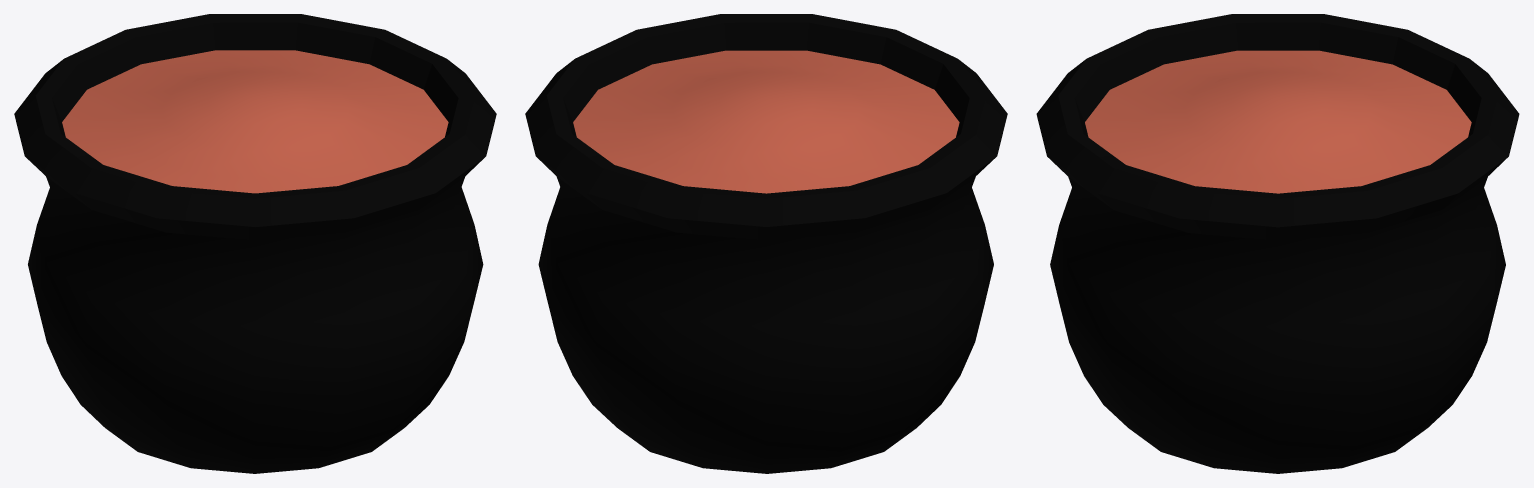
File: oil.fbx
3 renders of one model, left to right at view 1: azimuth 30°, elevation 25°; view 2: azimuth 150°, elevation 25°; view 3: azimuth 270°, elevation 25°, orthographic.
Parts seen in each view (by area): view 1: pSphere1; view 2: pSphere1; view 3: pSphere1.
Part boxes in pixels (<box>): pSphere1: <box>14,14,496,473</box>; pSphere1: <box>525,14,1007,473</box>; pSphere1: <box>1036,14,1519,473</box>.
Size of the model in its own units: 2.07 by 1.52 by 2.08.
